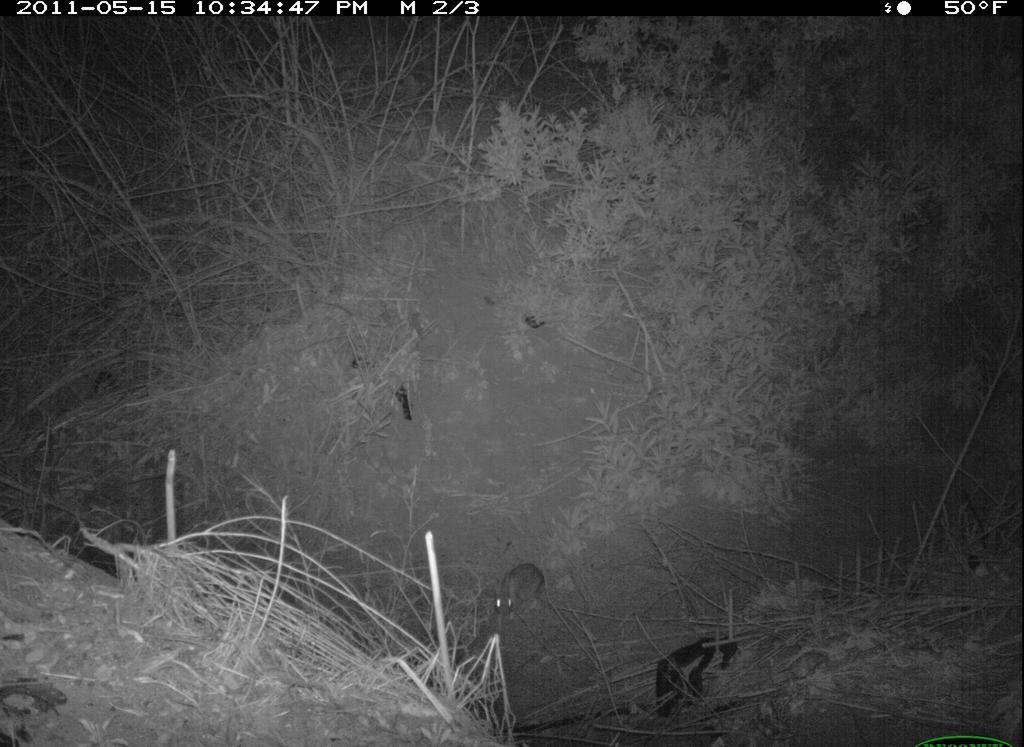rabbit: (489, 560, 561, 639)
